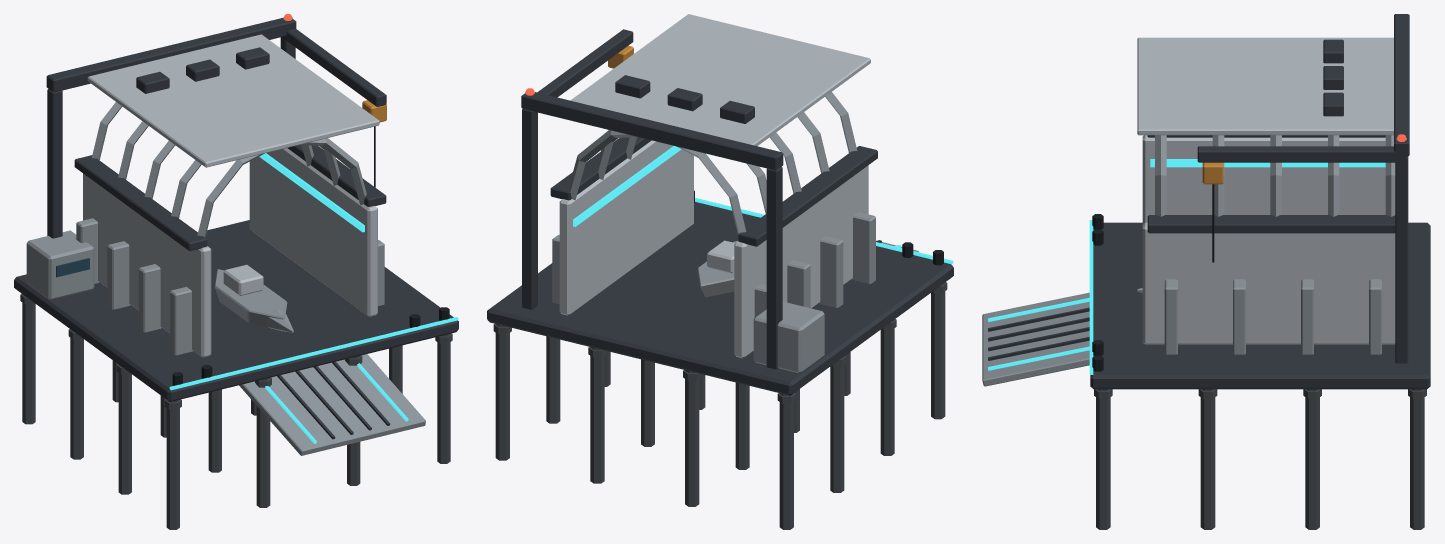
The model's file is exo-shipyard.glb.
The picture shows the model from 3 angles, left to right: view 1: azimuth 30°, elevation 25°; view 2: azimuth 150°, elevation 25°; view 3: azimuth 270°, elevation 25°; orthographic projection. The views are drawn at different scales.
Parts seen in each view (by area): view 1: body; view 2: body; view 3: body.
Boxes of the visible parts, x1,y1,x2,y2 form: body: (14, 14, 458, 529); body: (487, 14, 953, 529); body: (982, 14, 1430, 529).
Bounding box in the file's own units: 14 × 16.15 × 17.12.
